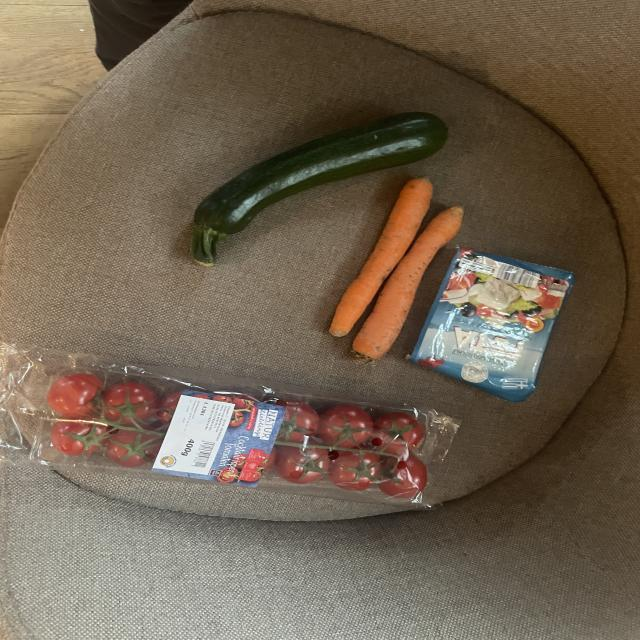carrot: (334, 178, 451, 358)
tomato: (39, 370, 97, 423), (99, 381, 157, 428), (46, 419, 109, 459), (336, 446, 385, 494), (105, 425, 156, 467), (387, 457, 431, 504), (378, 408, 425, 450), (283, 444, 325, 482), (327, 408, 371, 444)
zucchini: (182, 106, 453, 254)
